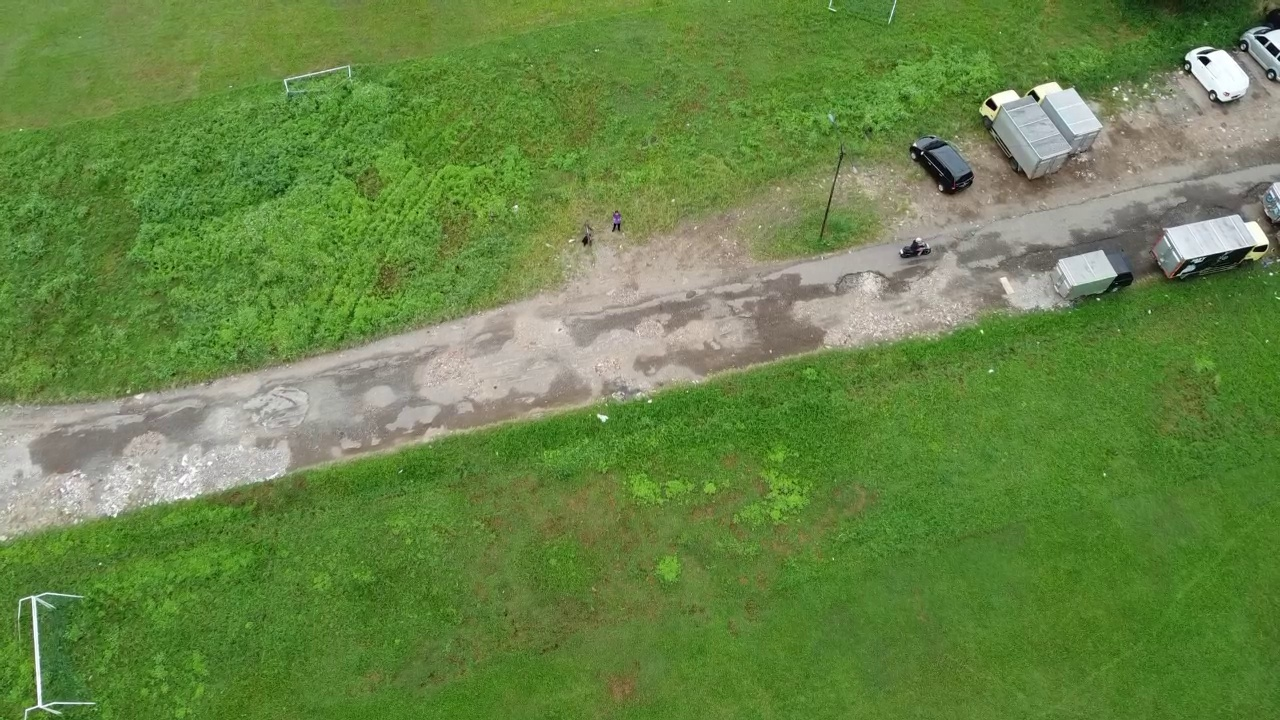mobil: (901, 127, 986, 206), (1178, 40, 1250, 110), (1237, 15, 1280, 83)
